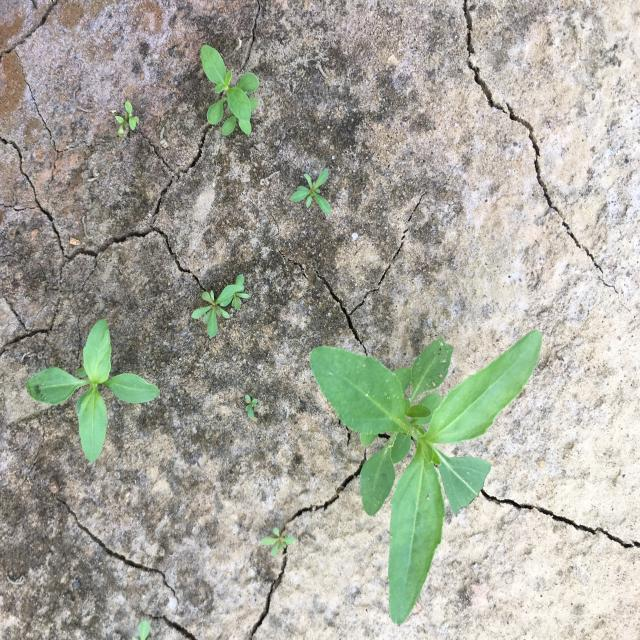Carpetweed: (192, 274, 250, 338), (289, 169, 331, 216), (260, 527, 296, 557), (245, 395, 258, 419)
Eclipta: (309, 328, 543, 625), (25, 318, 160, 463), (201, 44, 259, 136)
